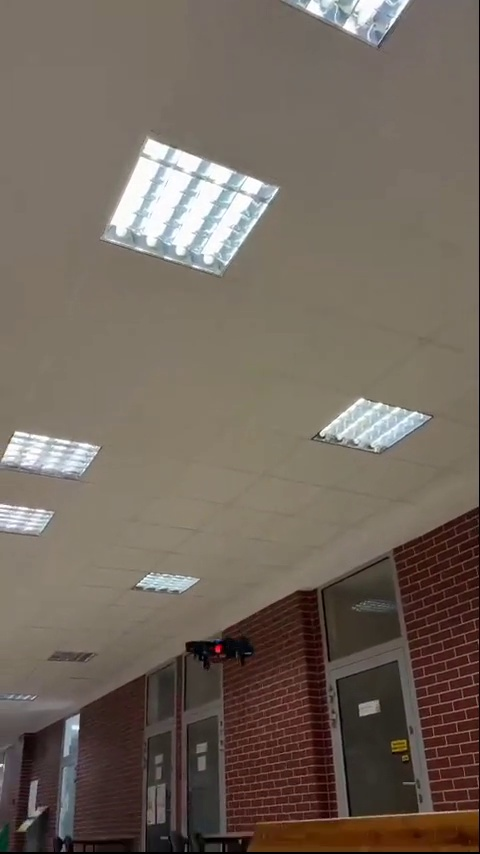drone: (182, 634, 261, 671)
